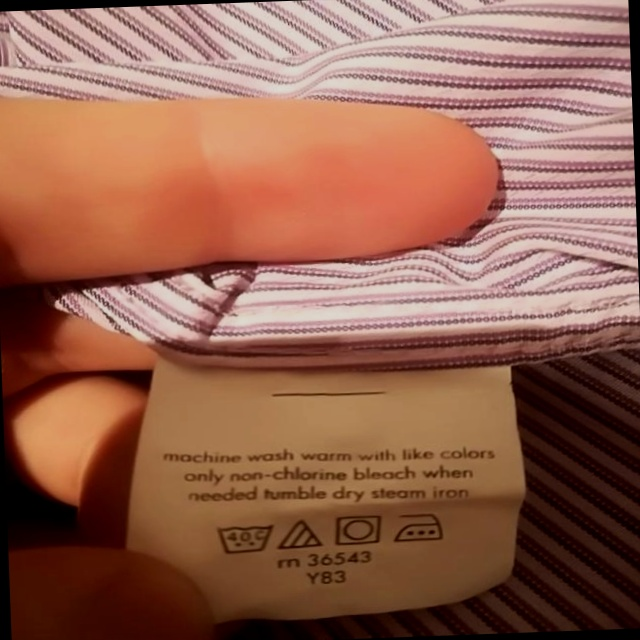40C: (215, 519, 277, 559)
iron_high: (393, 509, 450, 546)
non_chlorine_bleach: (277, 517, 324, 554)
tumble_dry_normal: (334, 514, 387, 549)
